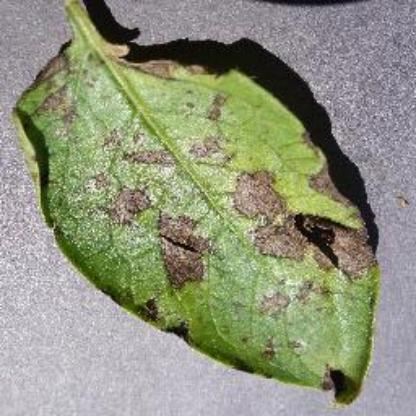Early-Blight: (13, 3, 387, 404)
